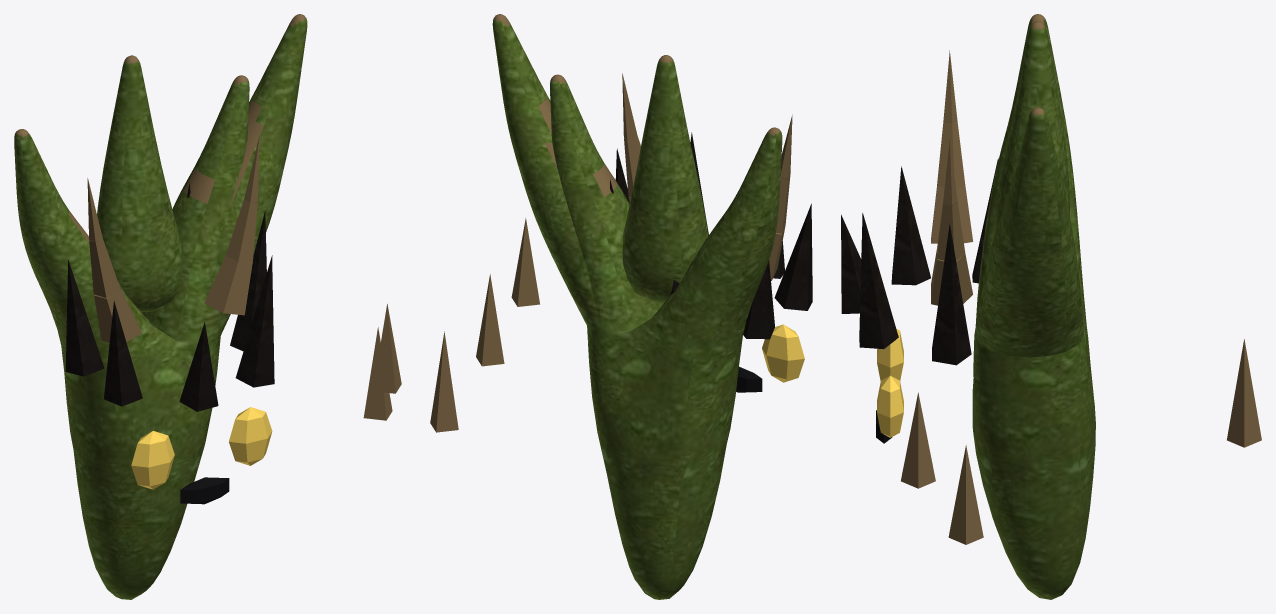
Rendered from mon_sp_seed_giant.glb.
3 renders of one model, left to right at view 1: azimuth 30°, elevation 25°; view 2: azimuth 150°, elevation 25°; view 3: azimuth 270°, elevation 25°, orthographic. The views are drawn at different scales.
Visible parts, largest first — view 1: mon_sp_seed_giant; view 2: mon_sp_seed_giant; view 3: mon_sp_seed_giant.
Boxes of the visible parts, box(x1,y1,x2,y2) form: mon_sp_seed_giant: box(14, 14, 401, 599); mon_sp_seed_giant: box(430, 14, 812, 599); mon_sp_seed_giant: box(841, 14, 1261, 599).
Bounding box in the file's own units: 1.69 × 2.58 × 1.7.
Materials: 5 (5 with a texture image).
